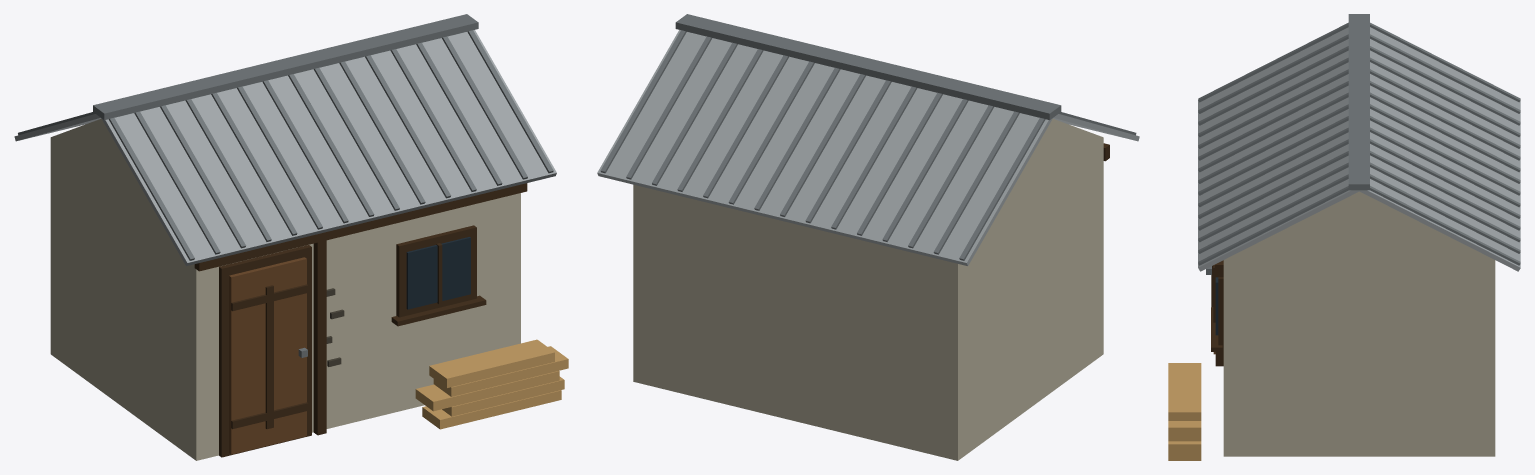
Rendered from Shed.glb.
3 renders of one model, left to right at view 1: azimuth 30°, elevation 25°; view 2: azimuth 150°, elevation 25°; view 3: azimuth 270°, elevation 25°, orthographic. The views are drawn at different scales.
Visible parts, largest first — view 1: Walls, Roof-1, Door, Ridge, DoorFrame, Window, Plank4, Lintel, Post, WindowFrame, Plank2, Plank0 (+22 smaller); view 2: Walls, Roof1, Ridge, Rib1_6, Rib1_14, Rib1_8, Rib1_1, Rib1_9, Rib1_11, Rib1_3, Rib1_4, Rib1_13 (+7 smaller); view 3: Walls, Roof-1, Roof1, Ridge, Plank4, Rib1_2, Rib1_5, Rib-1_12, Rib1_8, Rib-1_3, Rib-1_6, Rib-1_9 (+26 smaller).
Boxes of the visible parts, box(x1,y1,x2,y2) form: Walls: box(50, 118, 520, 460); Roof-1: box(101, 30, 556, 266); Door: box(229, 257, 306, 454); Ridge: box(93, 14, 478, 119); DoorFrame: box(219, 245, 311, 457); Window: box(406, 237, 470, 309); Plank4: box(429, 339, 554, 387); Lintel: box(194, 183, 527, 271); Post: box(313, 240, 326, 435); WindowFrame: box(396, 225, 476, 317); Plank2: box(415, 371, 559, 411); Plank0: box(422, 390, 561, 429); Walls: box(633, 119, 1103, 460); Roof1: box(597, 30, 1052, 265); Ridge: box(675, 14, 1061, 120); Rib1_6: box(805, 80, 891, 223); Rib1_14: box(600, 30, 686, 173); Rib1_8: box(754, 67, 840, 210); Rib1_1: box(933, 111, 1019, 254); Rib1_9: box(728, 61, 814, 204); Rib1_11: box(677, 49, 763, 191); Rib1_3: box(882, 99, 968, 241); Rib1_4: box(857, 92, 942, 235); Rib1_13: box(626, 36, 712, 179); Walls: box(1223, 191, 1495, 456); Roof-1: box(1198, 27, 1360, 271); Roof1: box(1359, 27, 1520, 271); Ridge: box(1348, 14, 1369, 190); Plank4: box(1168, 363, 1201, 420); Rib1_2: box(1370, 46, 1520, 125); Rib1_5: box(1370, 81, 1520, 160); Rib-1_12: box(1198, 162, 1348, 242); Rib1_8: box(1370, 116, 1520, 195); Rib-1_3: box(1198, 57, 1348, 137); Rib-1_6: box(1198, 92, 1348, 172); Rib-1_9: box(1198, 127, 1348, 207).
Bounding box in the file's own units: 4.15 × 3.23 × 3.63.
